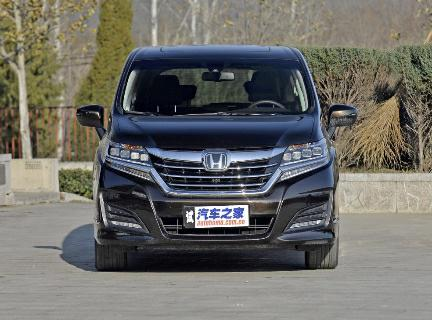本田-艾力绅: (78, 34, 365, 276)
